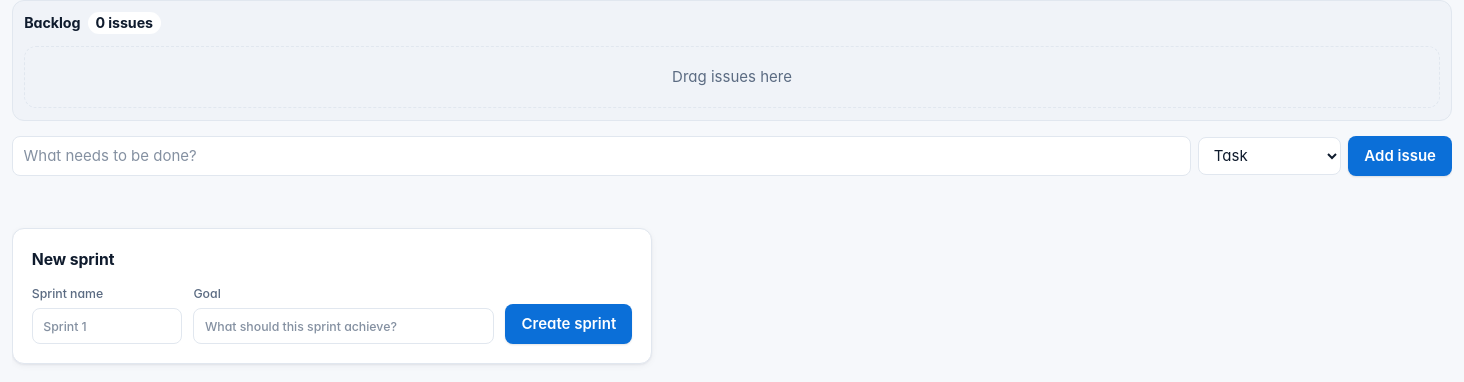
Backlog (KYB-S20) › adds an issue to the backlog from the quick-add form
Type "Write docs" into the field named "New issue title" at (601, 156), box [12, 136, 1191, 176]
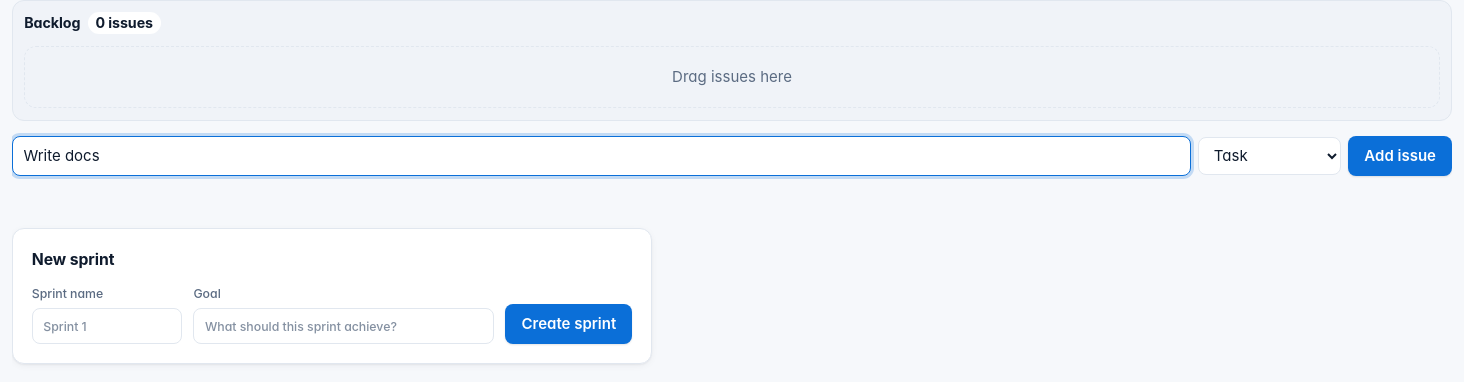
Click the button "Add issue" at (1400, 156), box [1348, 136, 1452, 176]
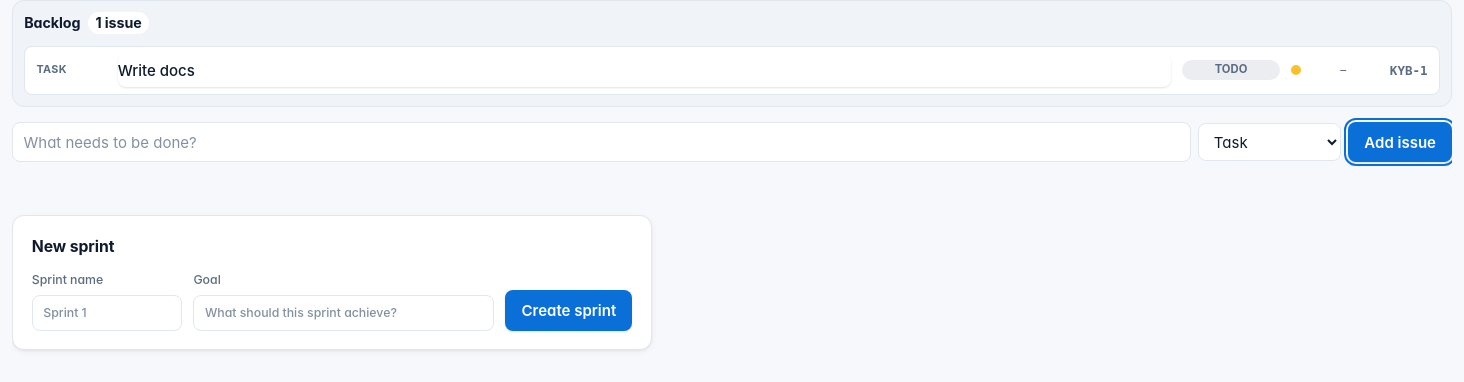
Check: the button "Write docs" is shown, box [118, 53, 1171, 87]
